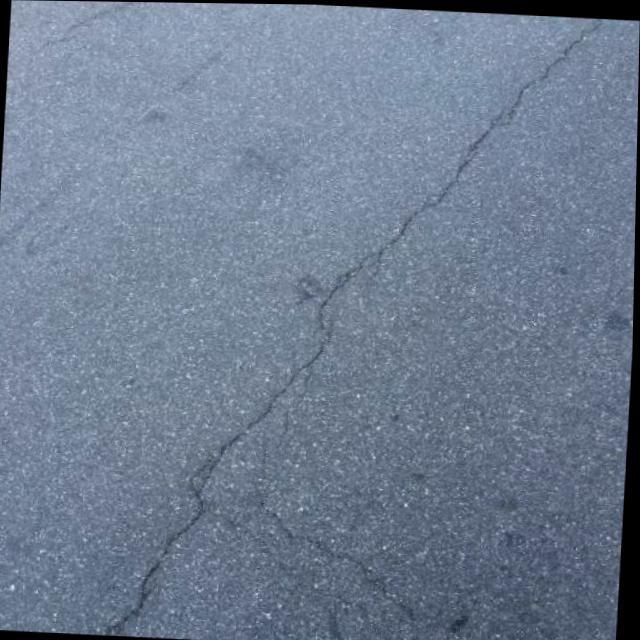Crack: (108, 1, 607, 640)
